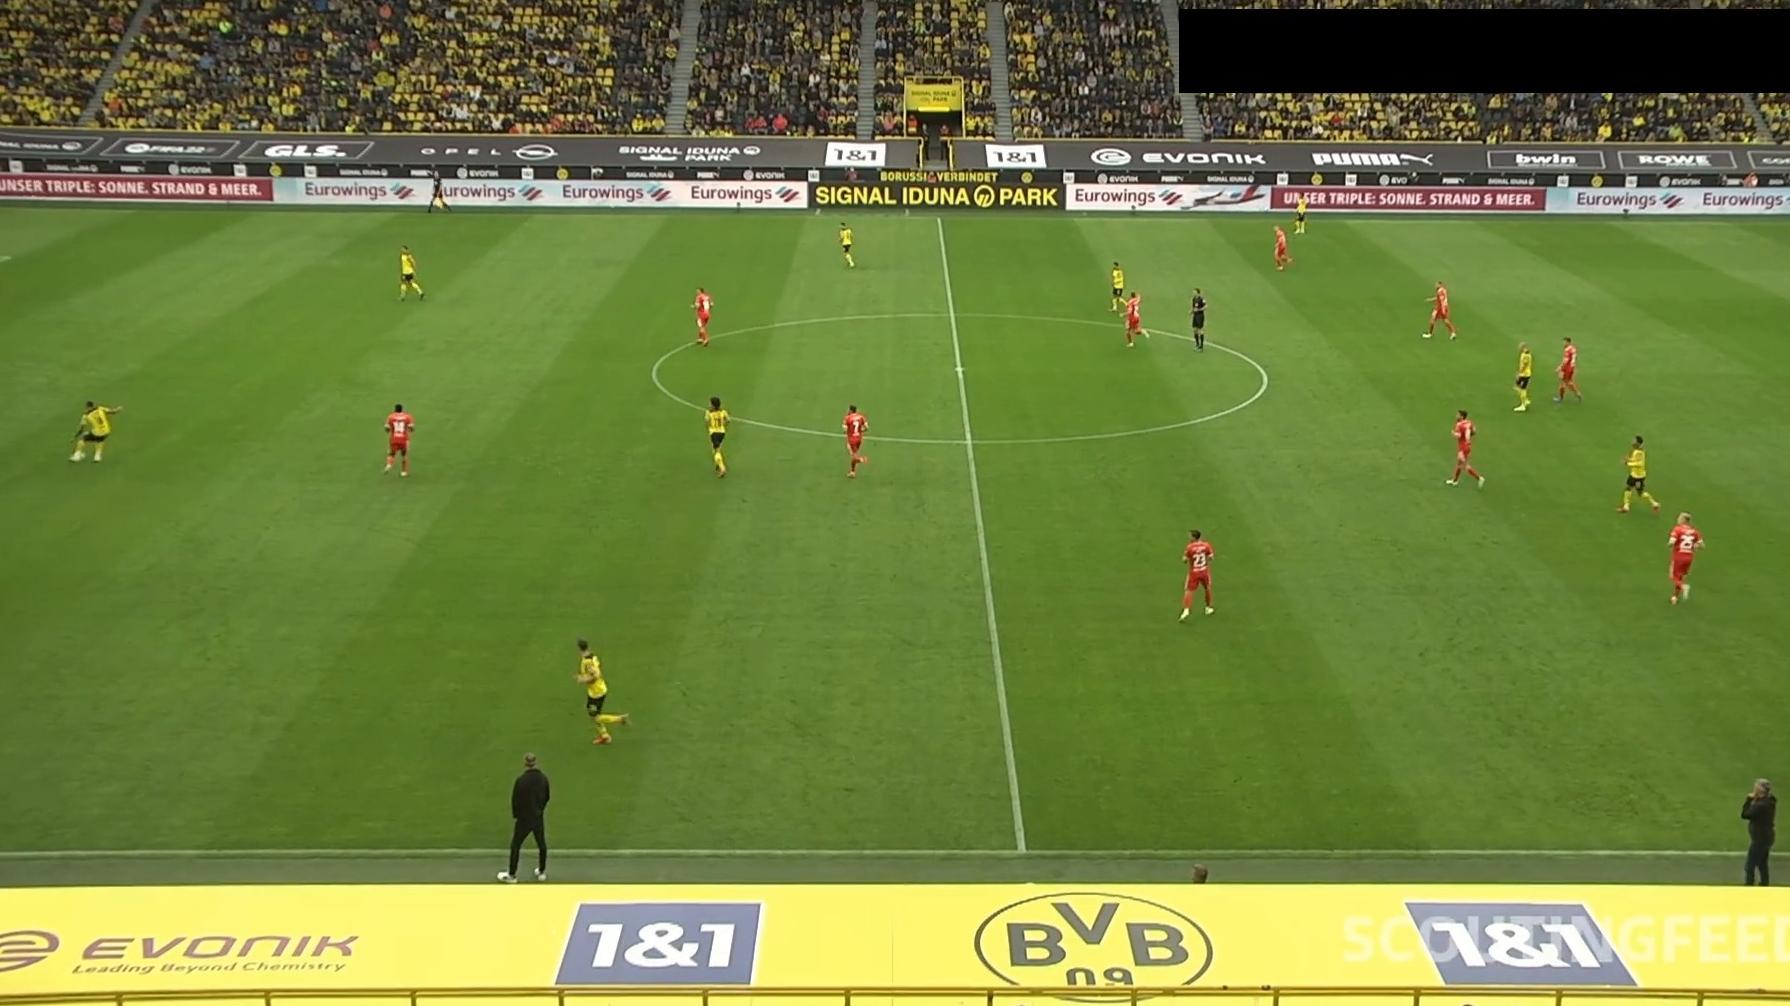ball: (73, 448, 87, 462)
